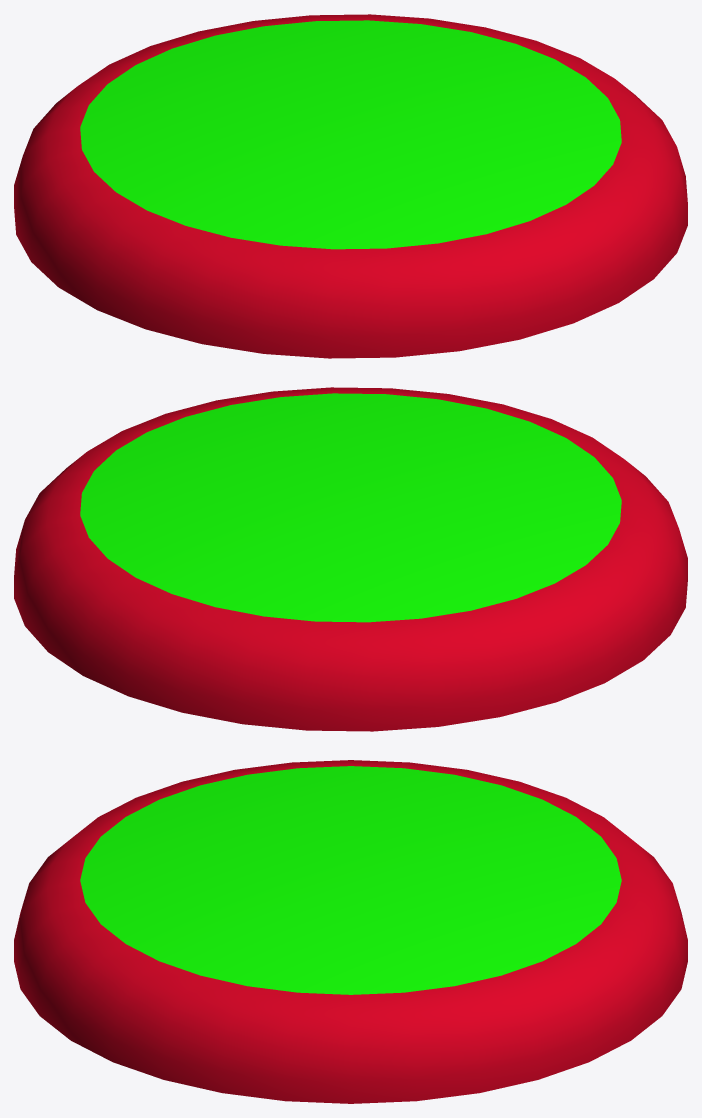
Rendered from thing.fbx.
3 views of the same model, one above another, from view 1: azimuth 30°, elevation 25°; view 2: azimuth 150°, elevation 25°; view 3: azimuth 270°, elevation 25° (orthographic).
Parts seen in each view (by area): view 1: Cylinder; view 2: Cylinder; view 3: Cylinder.
Boxes of the visible parts, x1=… form: Cylinder: x1=14, y1=14, x2=687, y2=358; Cylinder: x1=14, y1=387, x2=687, y2=731; Cylinder: x1=14, y1=760, x2=687, y2=1103.
Bounding box in the file's own units: 219 × 29 × 219.
